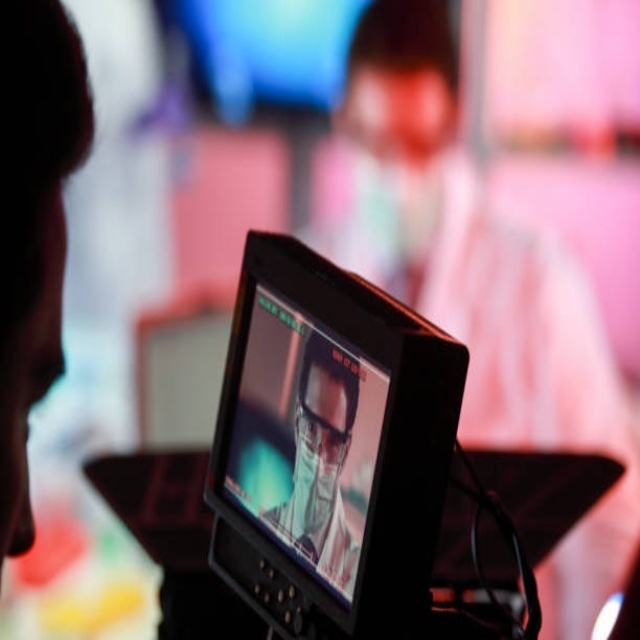Gafas: (295, 392, 350, 460)
Mascara: (287, 433, 341, 538)
